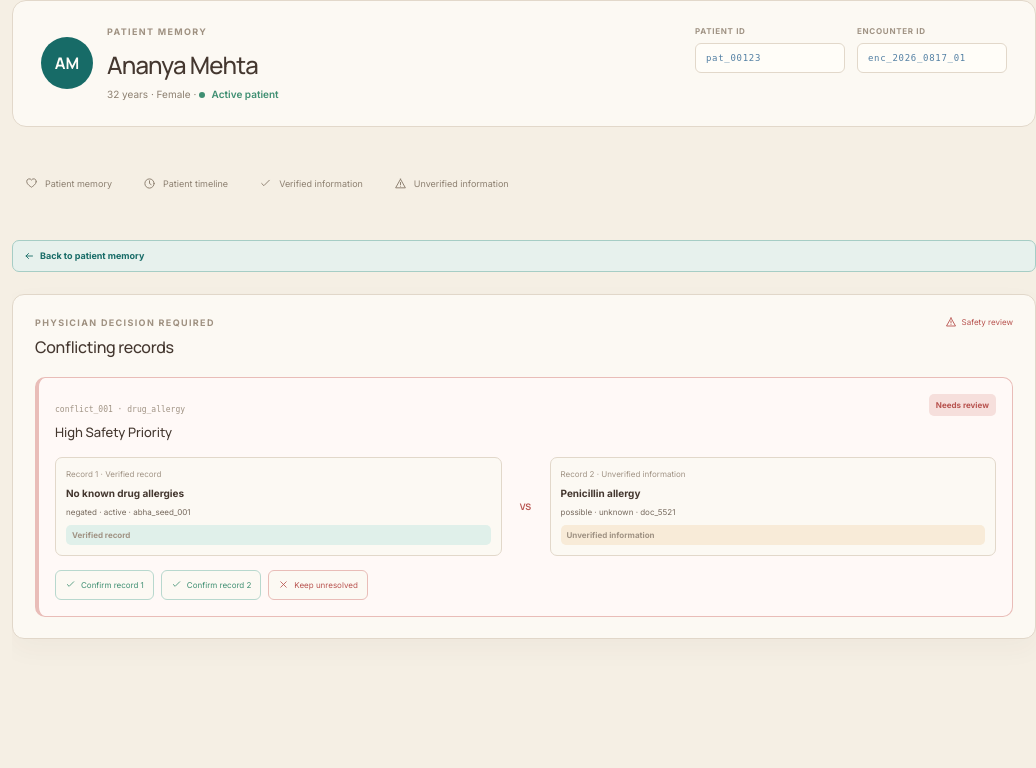
Test case: Step 3 memory contracts and views › renders conflict center actions without choosing an event automatically
The width and height of the screenshot is (1036, 768).
Check: the text "No known drug allergies" is shown, box [66, 486, 184, 498]
Check: the text "Penicillin allergy" is shown, box [560, 486, 640, 498]
Click the button "Keep unresolved". click: (318, 585)
box: [268, 570, 368, 600]
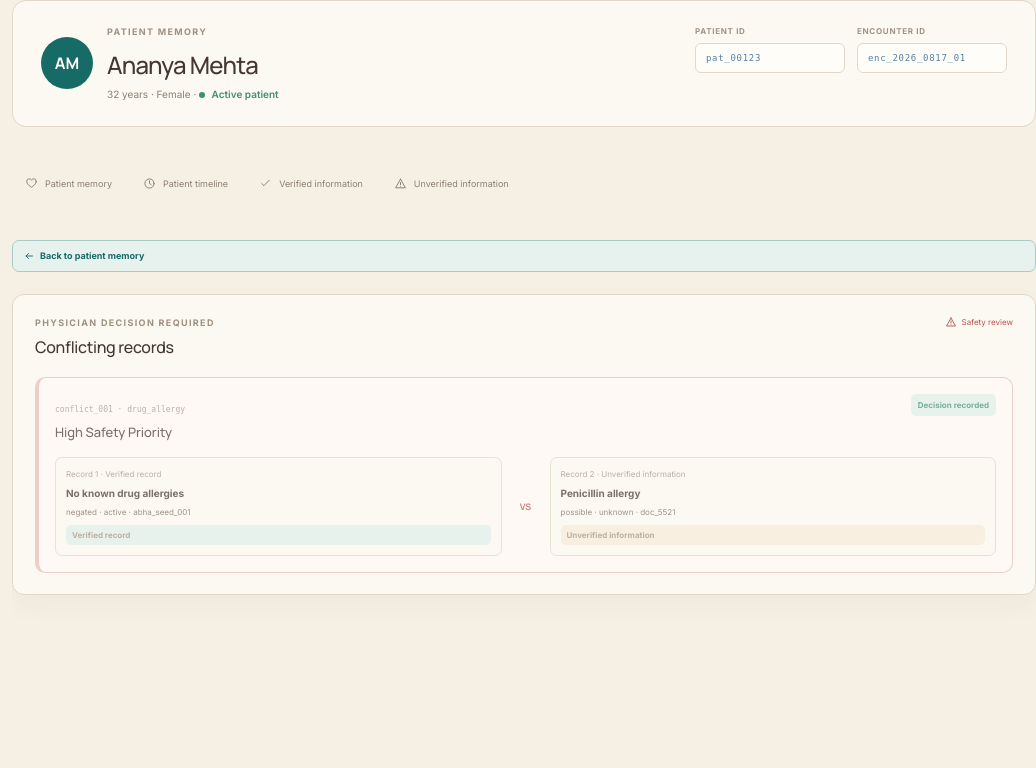
Check: the text "Decision recorded" is shown, box [911, 394, 996, 416]
